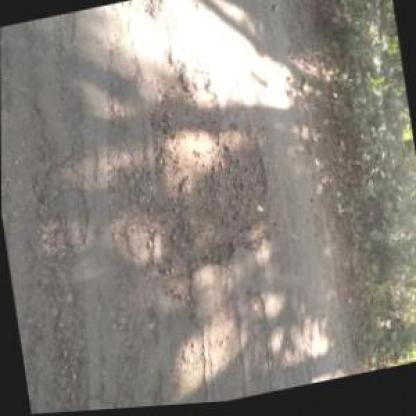pothole: (121, 48, 280, 292)
